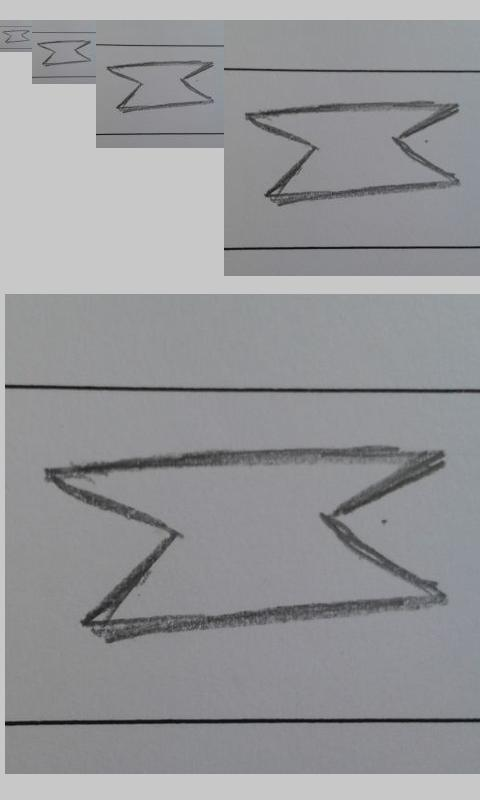edit_text: (46, 448, 450, 642), (244, 101, 462, 203), (107, 60, 214, 113), (36, 40, 91, 66), (2, 29, 30, 43)
